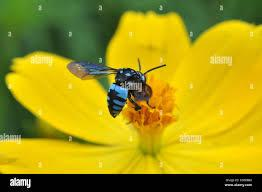Thyreus: (67, 54, 164, 122)
